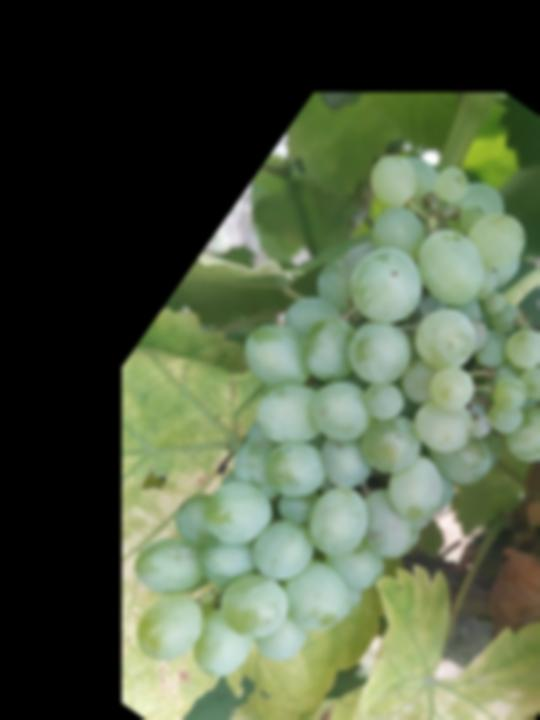grape: (60, 116, 540, 720)
